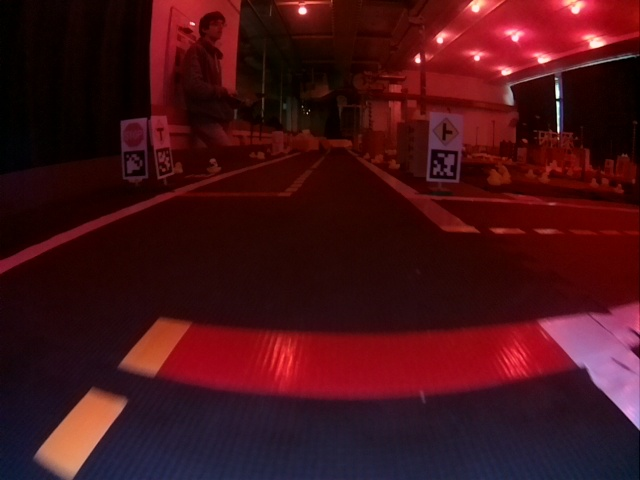Duckie: (487, 169, 501, 185), (207, 158, 221, 173), (174, 162, 183, 174), (526, 169, 536, 179), (389, 160, 399, 169), (501, 171, 511, 180), (363, 152, 371, 161), (371, 156, 380, 164), (249, 152, 257, 158)
Intersection sign: (432, 117, 459, 146), (153, 118, 167, 144)
QR code: (430, 149, 458, 180), (123, 150, 146, 177), (155, 148, 173, 177)
Stop sign: (123, 122, 143, 147)
